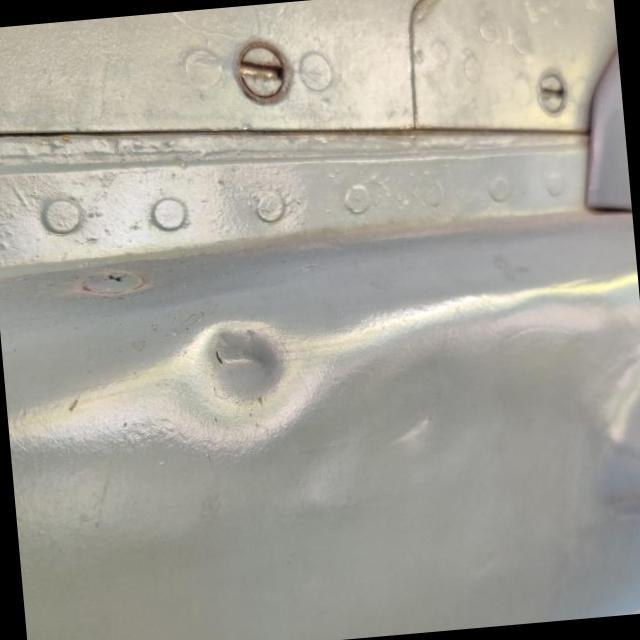Dent: (144, 286, 332, 454), (359, 390, 461, 474)
